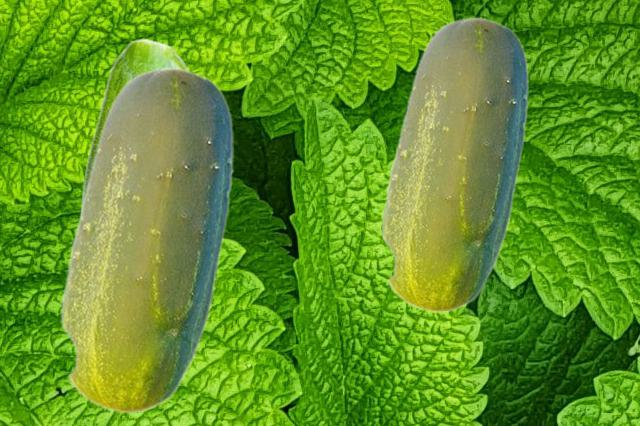cucumber: (59, 66, 232, 413), (380, 16, 527, 312), (78, 38, 190, 216)
